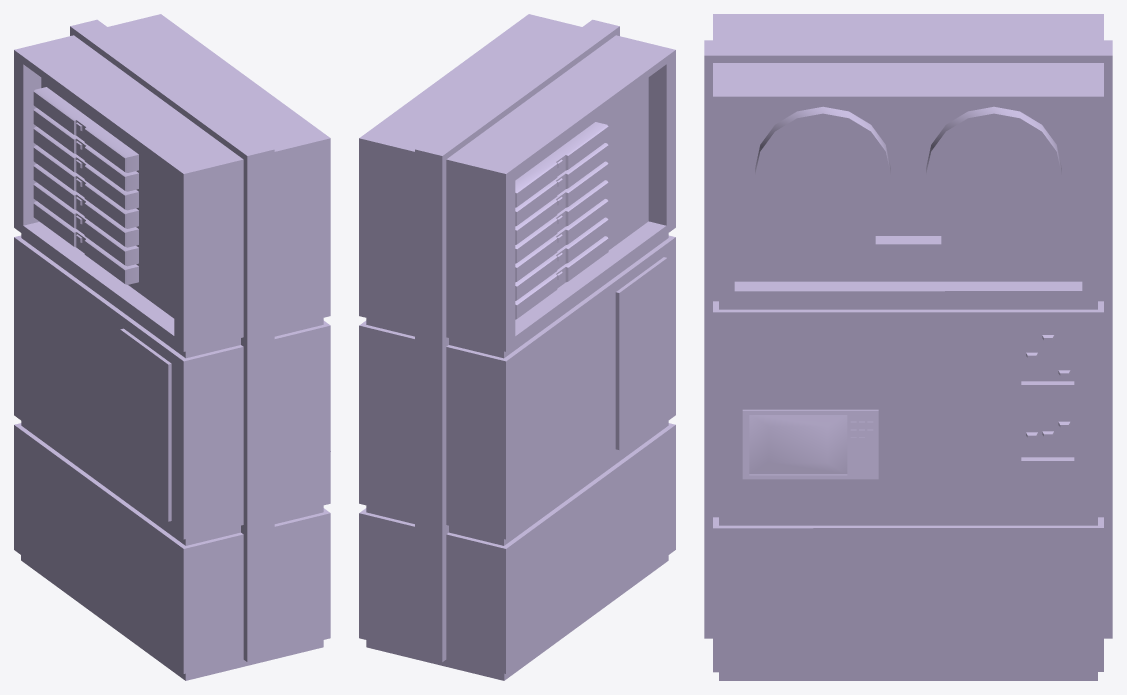
Rendered from serverbox2.fbx.
The picture shows the model from 3 angles, left to right: view 1: azimuth 30°, elevation 25°; view 2: azimuth 150°, elevation 25°; view 3: azimuth 270°, elevation 25°; orthographic projection. The views are drawn at different scales.
Visible parts, largest first — view 1: silo_server; view 2: silo_server; view 3: silo_server.
Part boxes in pixels (bbox=[...]): silo_server: bbox=[14, 14, 330, 680]; silo_server: bbox=[359, 14, 675, 680]; silo_server: bbox=[704, 14, 1112, 680].
Bounding box in the file's own units: 72.56 × 219 × 136.
